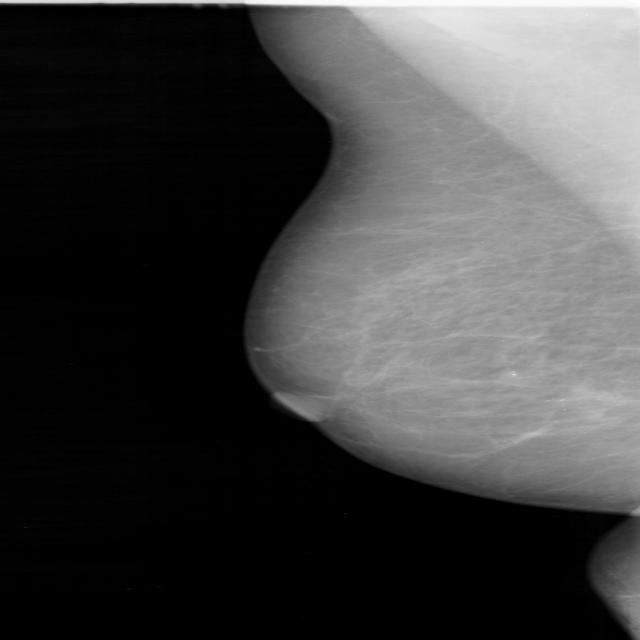normal: (241, 0, 640, 515)
